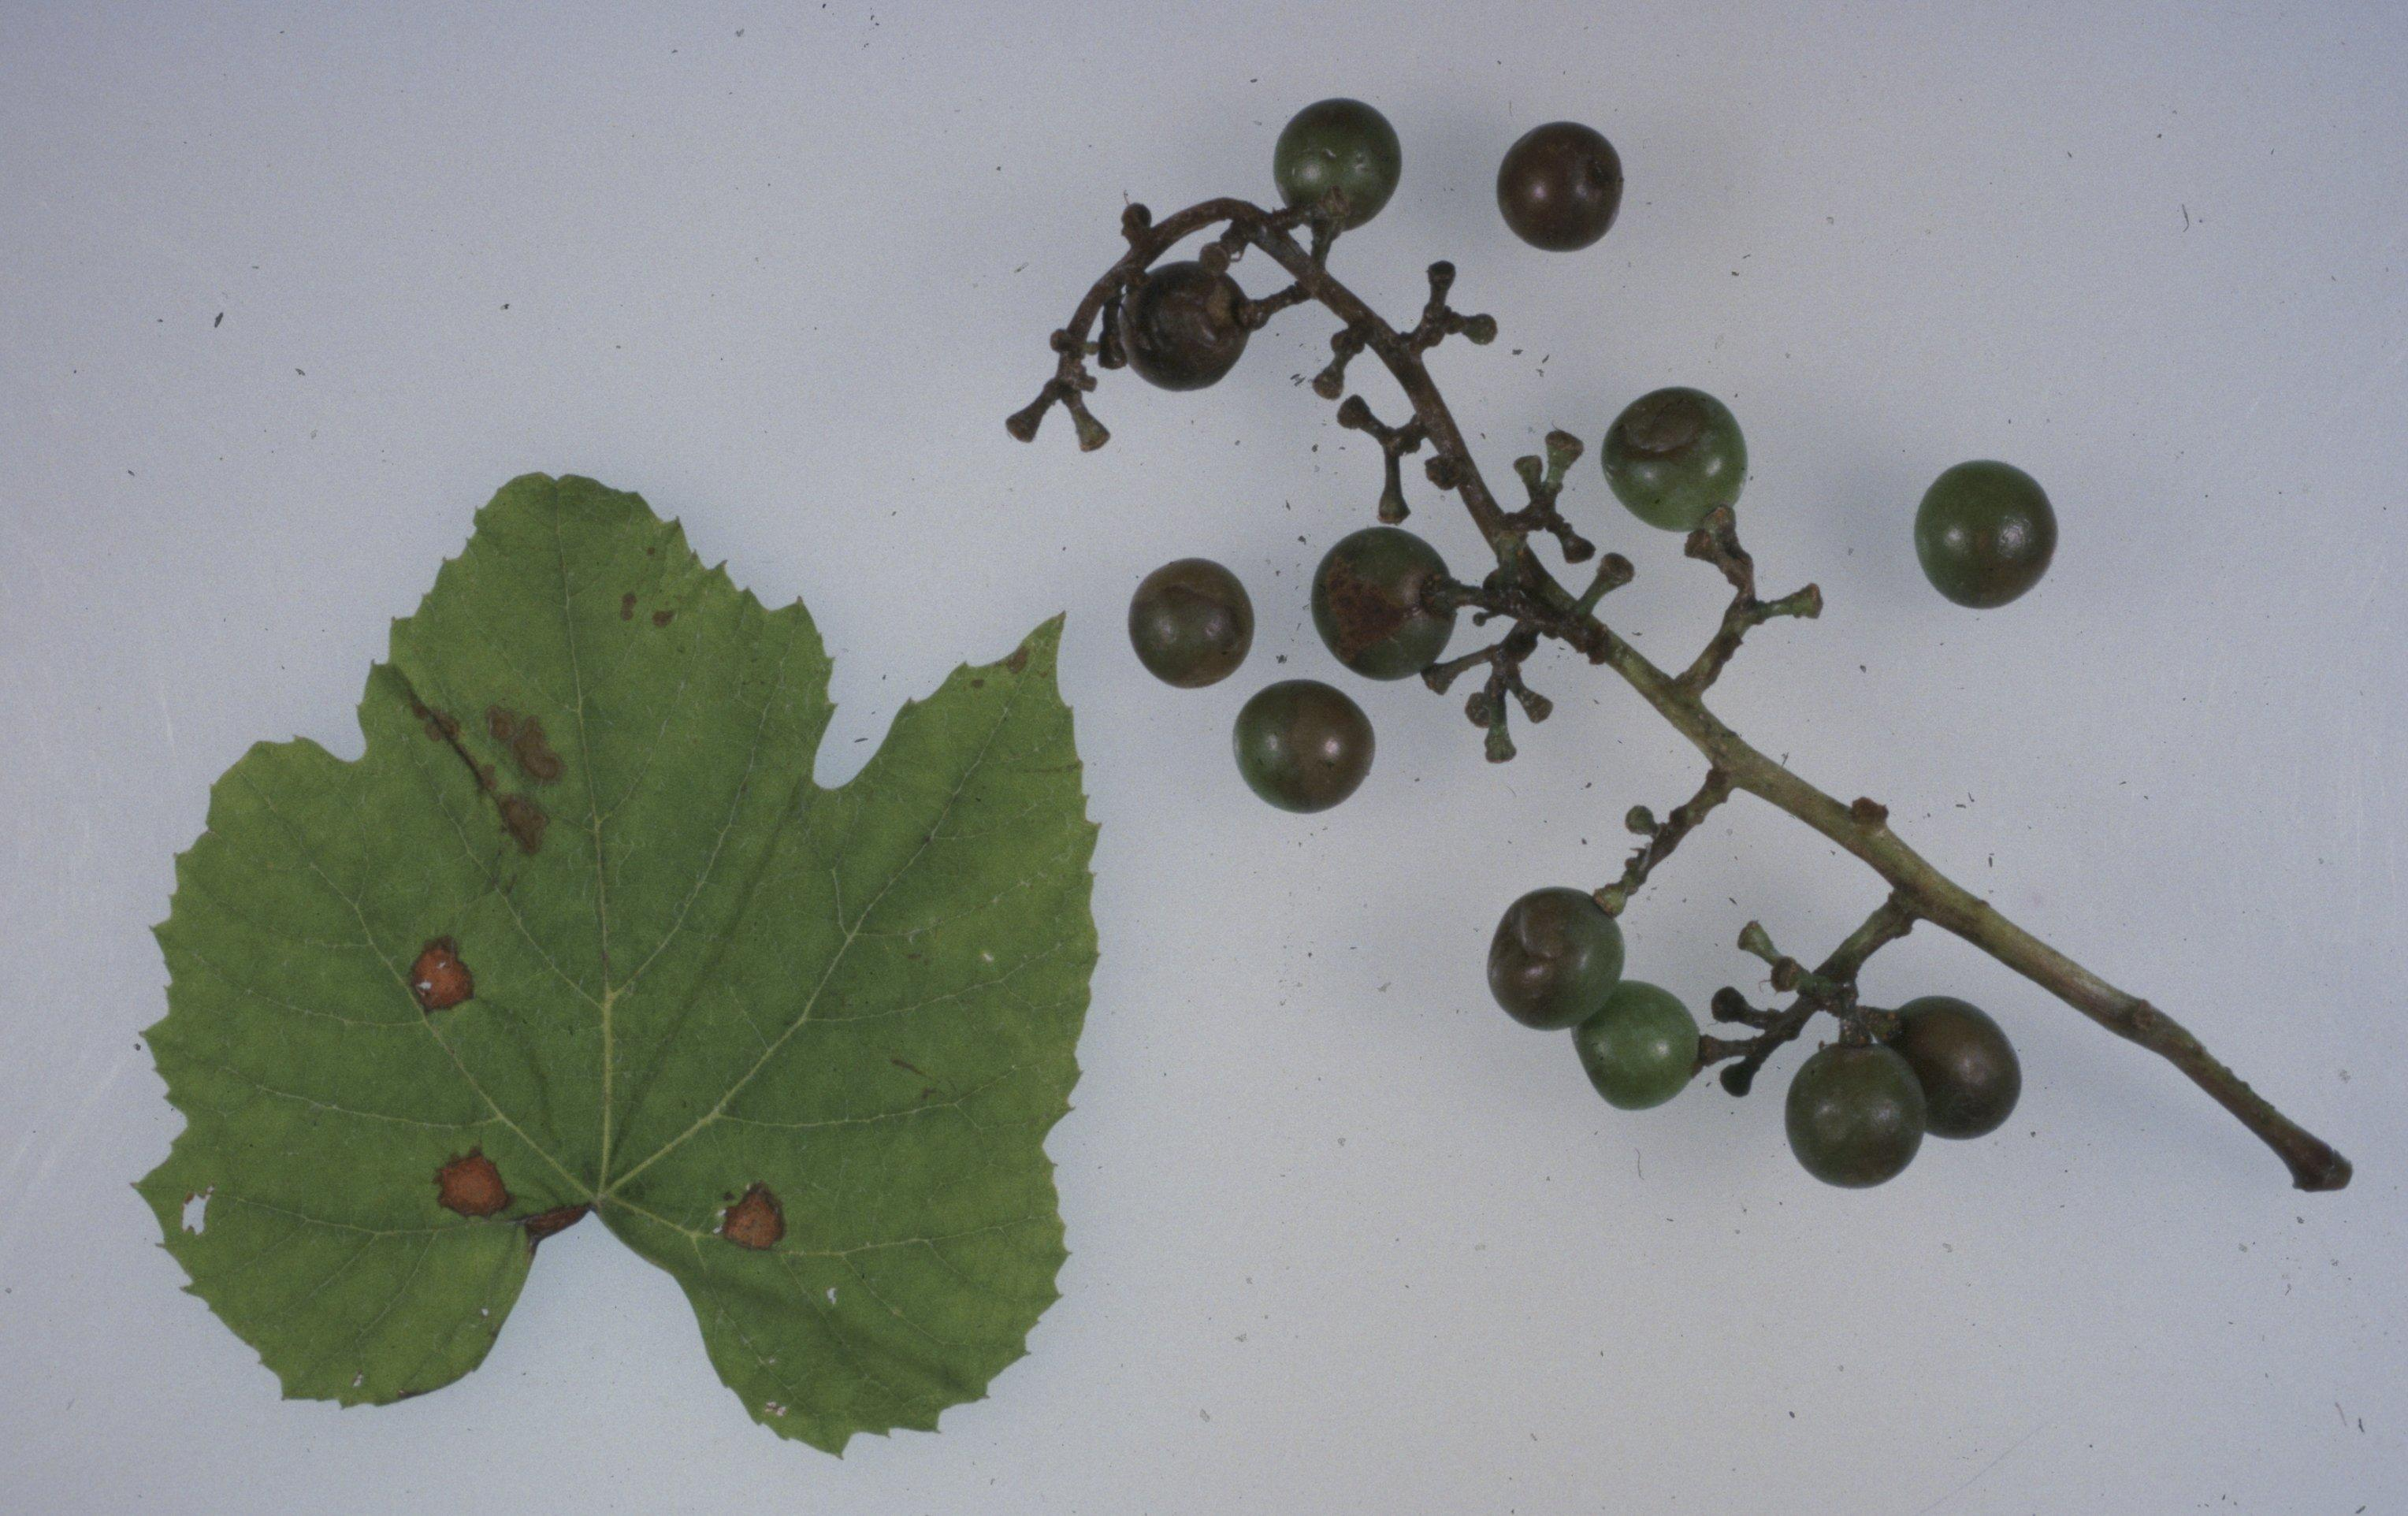grape leaf: (105, 473, 1116, 1474)
